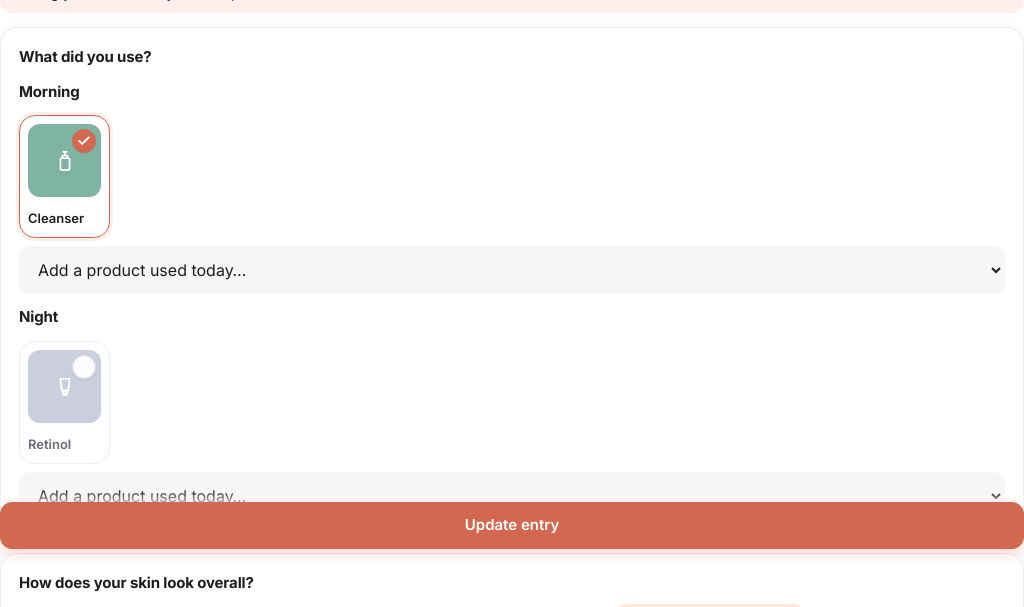
Scenario: LogScreen › saves the expected body
Click the button "Retinol" at coordinates (65, 403), box x1=19 y1=341 x2=110 y2=464
(page scrolled)
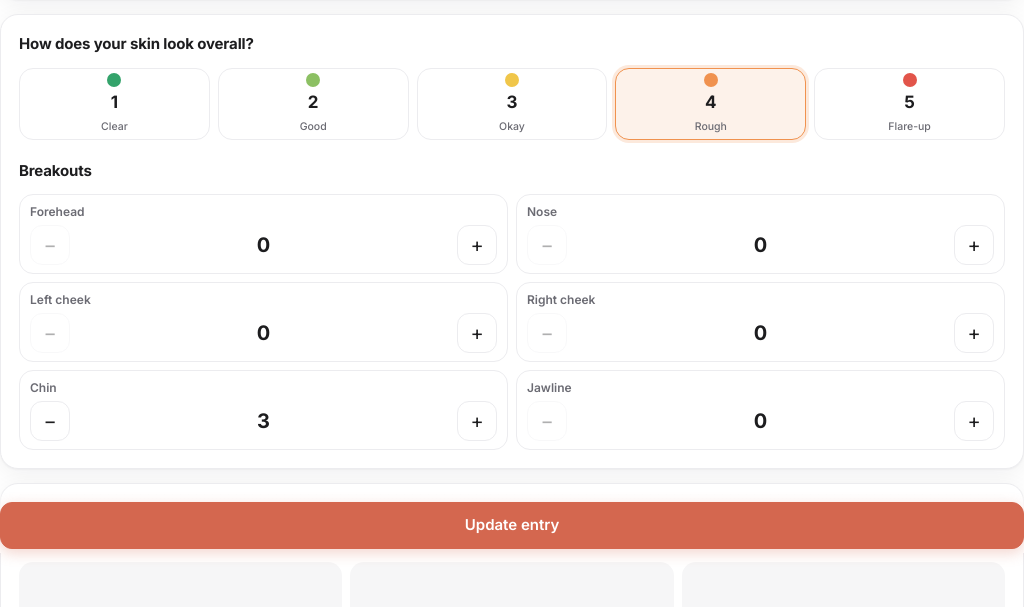
Click the button named "More on nose" at coordinates (974, 245), box x1=954 y1=225 x2=994 y2=265
(page scrolled)
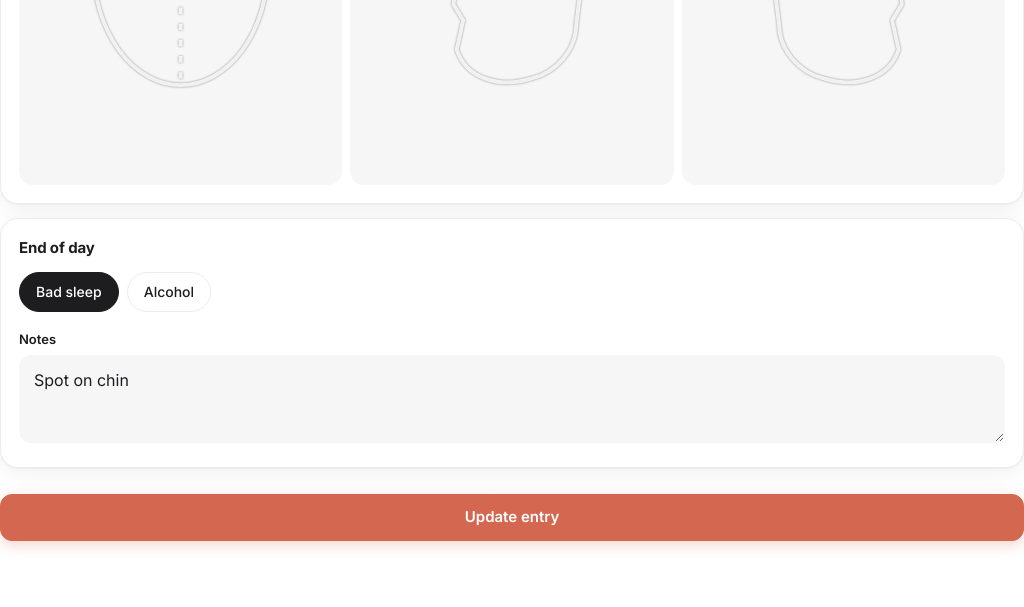
Type "!" into the text box labelled "Notes" at coordinates (512, 399), box x1=19 y1=355 x2=1005 y2=443
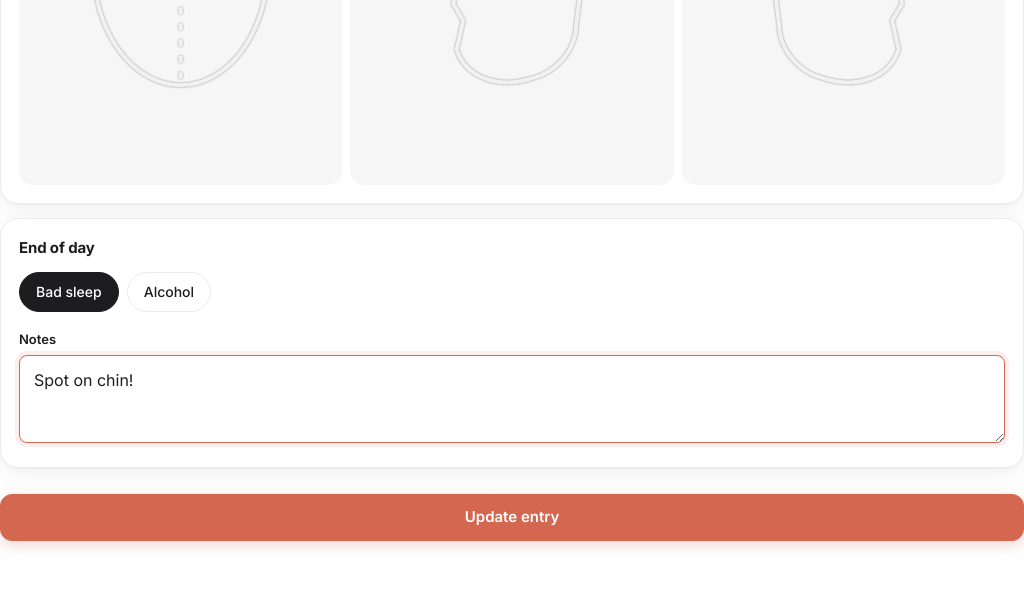
Click the button "Alcohol" at coordinates (169, 292), box x1=127 y1=272 x2=211 y2=312
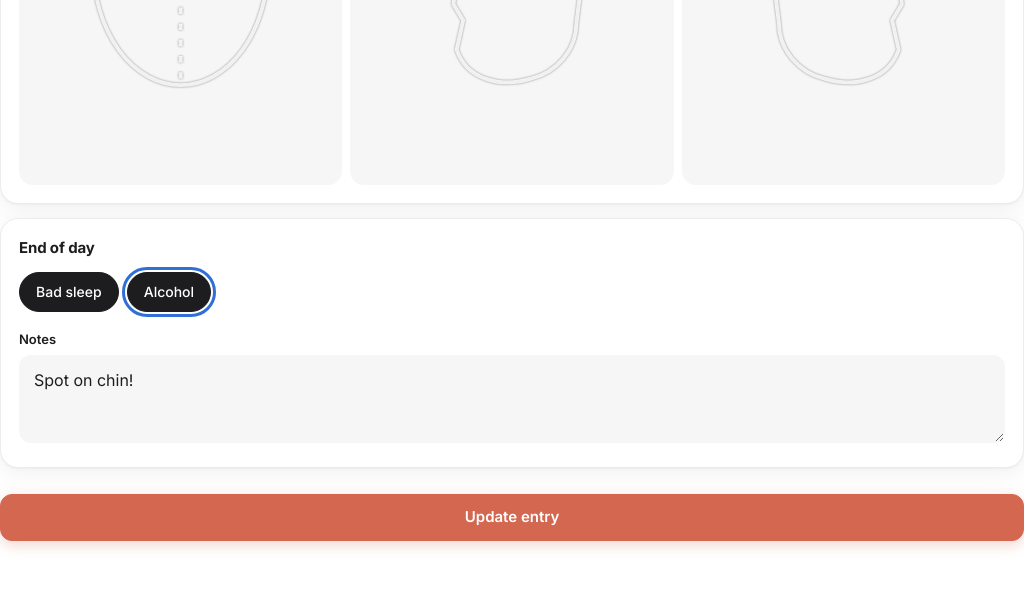
Click the button "Update entry" at coordinates (512, 517), box x1=0 y1=494 x2=1023 y2=541
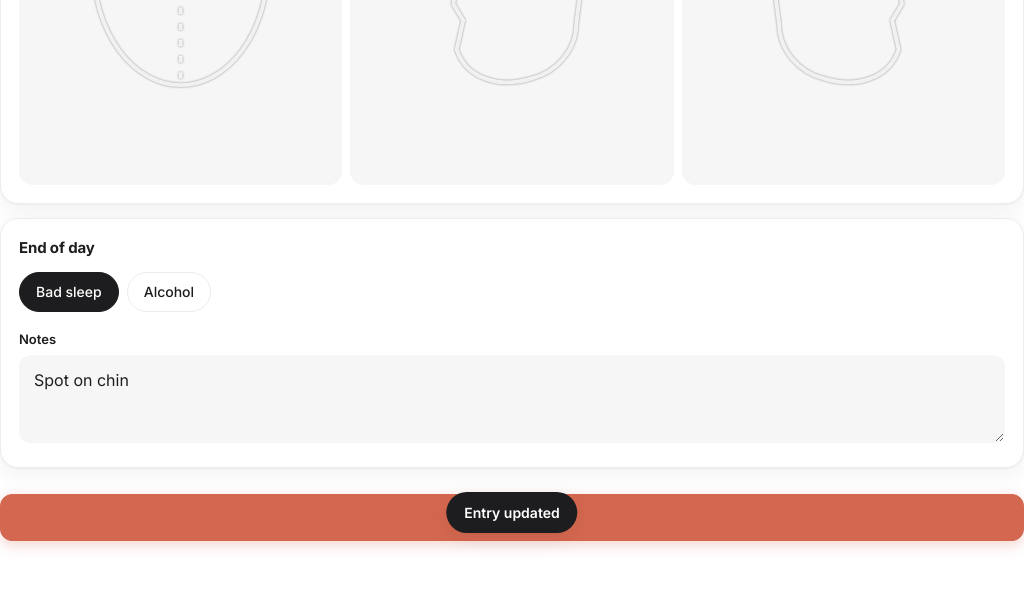
Now the text "Entry updated" is shown, box x1=446 y1=492 x2=578 y2=533
